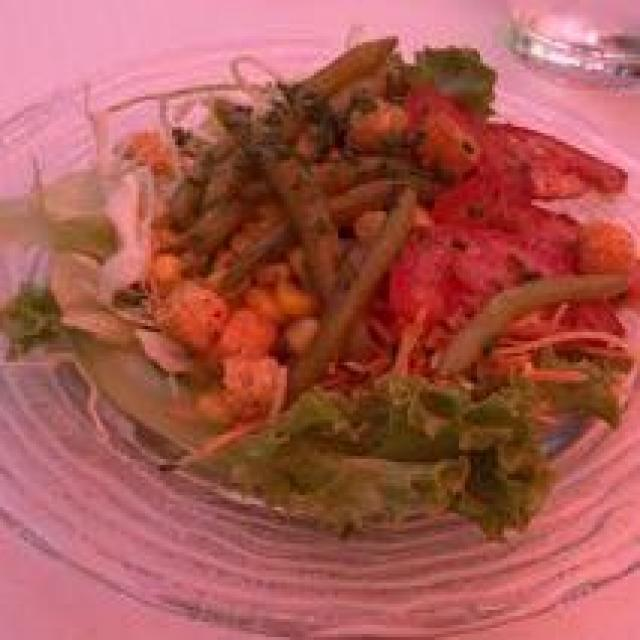beans: (174, 40, 618, 395)
carrot: (466, 317, 623, 394)
croutons: (137, 118, 322, 418)
salad: (44, 131, 542, 560)
tomato: (386, 90, 625, 378)
